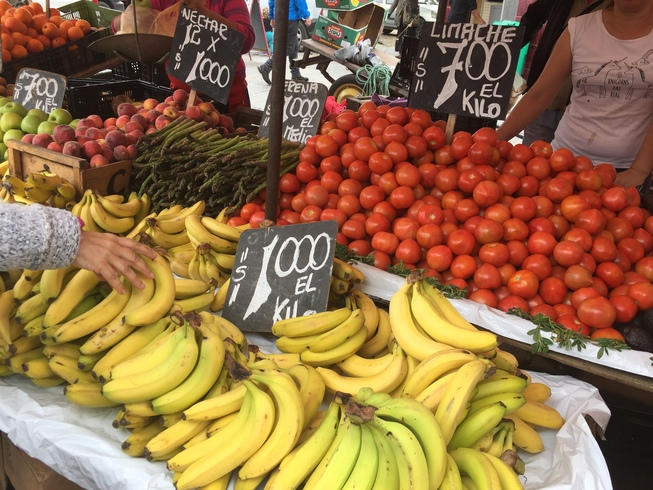precio: (221, 215, 344, 340), (402, 17, 524, 132), (162, 3, 258, 102), (245, 75, 336, 157), (10, 62, 75, 124)
